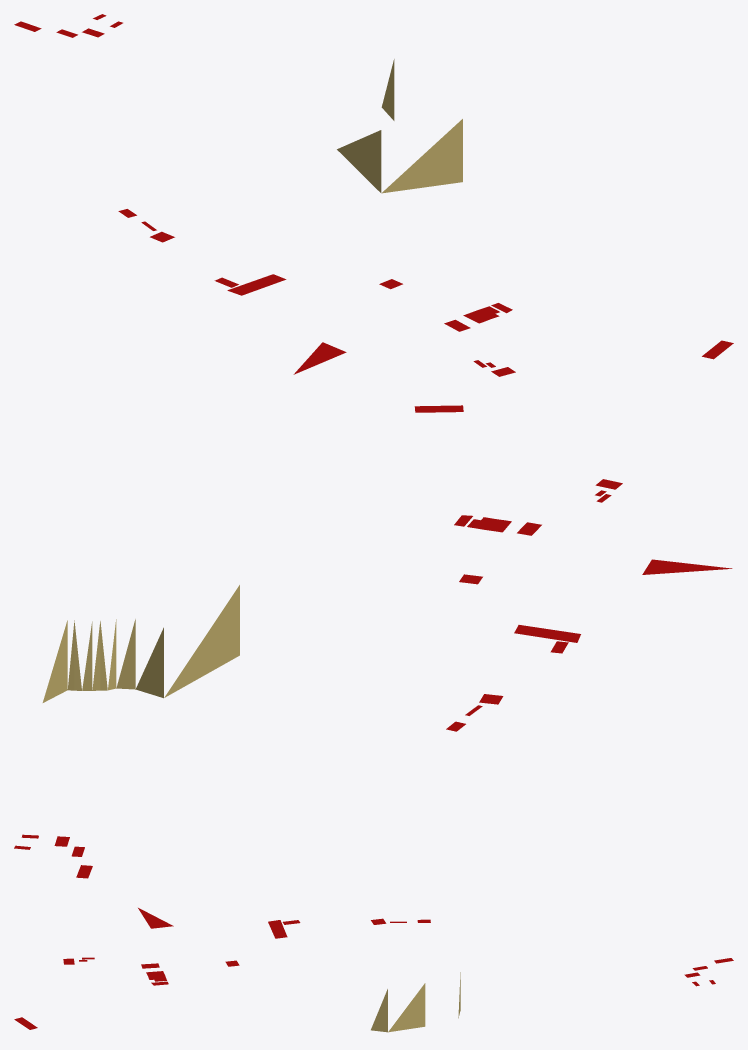
3 renders of one model, top to bottom at view 1: azimuth 30°, elevation 25°; view 2: azimuth 150°, elevation 25°; view 3: azimuth 270°, elevation 25°, orthographic. The views are drawn at different scales.
Bounding box in the file's own units: 224 × 37.5 × 556.
